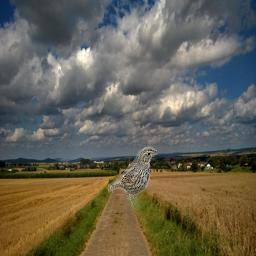Sparrow: (109, 146, 158, 211)
